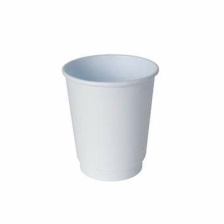paper_cup: (57, 48, 162, 185)
